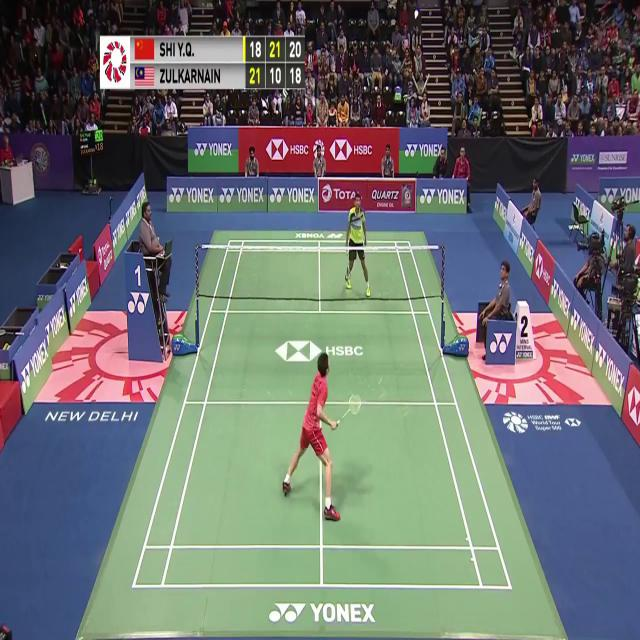Shuttlecock: (413, 10, 420, 22)
